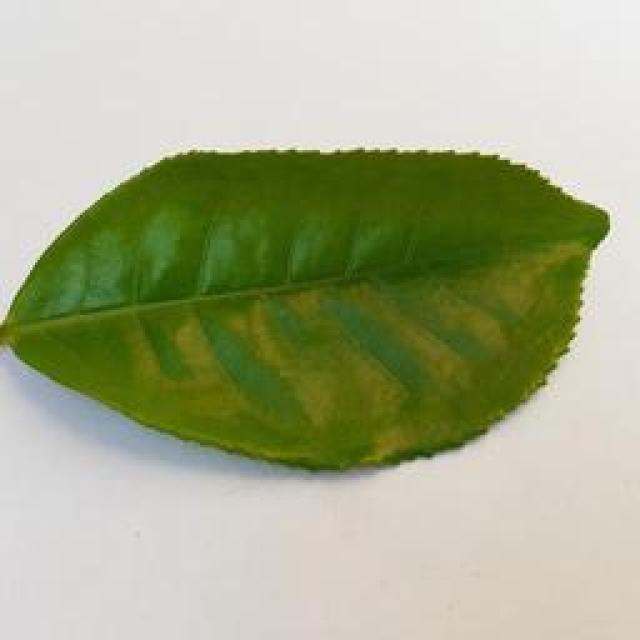Healthy: (0, 131, 602, 477)
